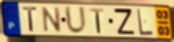L: (136, 8, 155, 37)
N: (41, 6, 62, 34)
T: (21, 6, 39, 33), (89, 7, 105, 34)
U: (63, 5, 89, 36)
Z: (113, 8, 137, 37)
